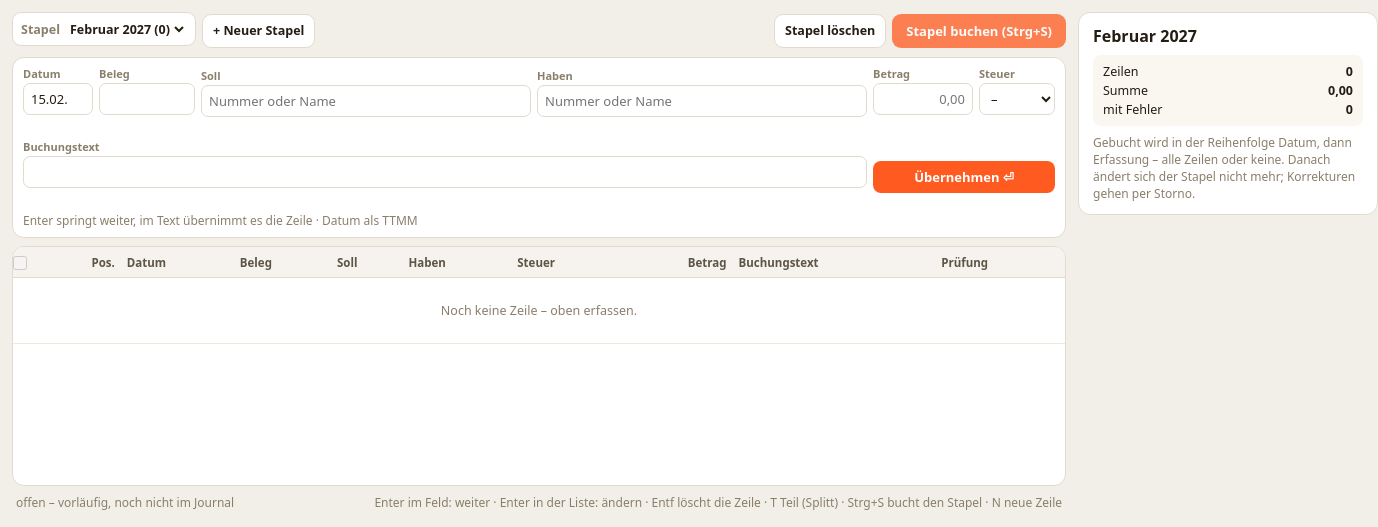
Scenario: Buchungsstapel › Unvollständig: Hinweis und kein Speichern
Type "4530" into the dropdown named "Soll-Konto". click: {"x": 366, "y": 101}
box: 201,85 -> 531,117
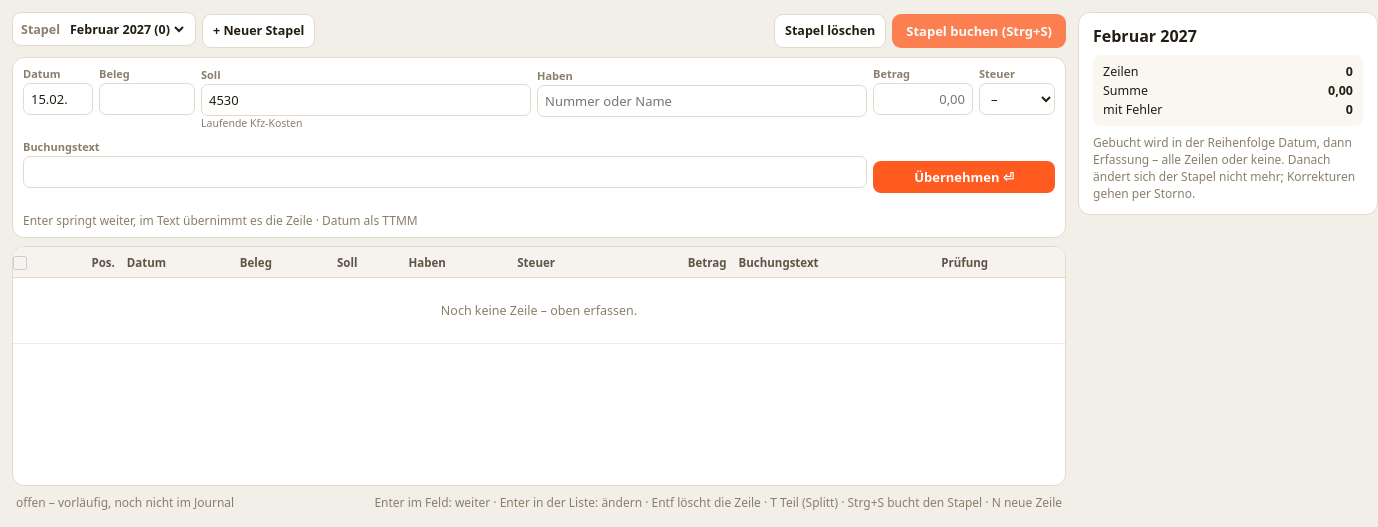
Click the button "Übernehmen ⏎". click: {"x": 964, "y": 177}
box: 873,161 -> 1055,193
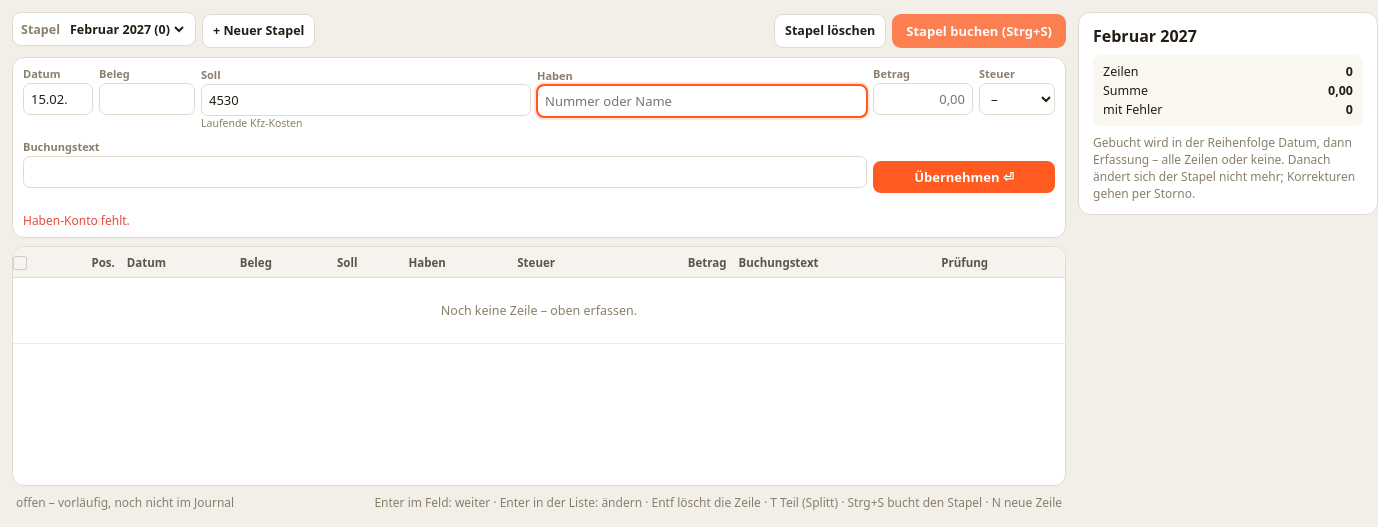
Result: the message reads "Haben-Konto fehlt." at 23,212 -> 130,229
